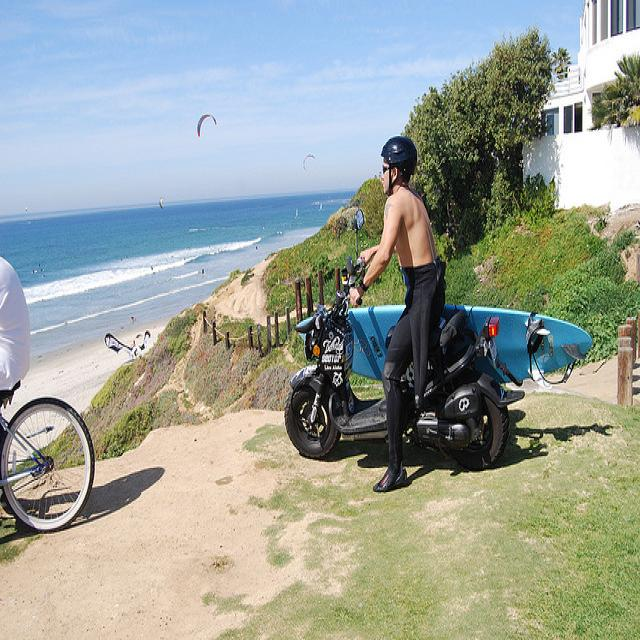motor: (280, 211, 525, 466)
